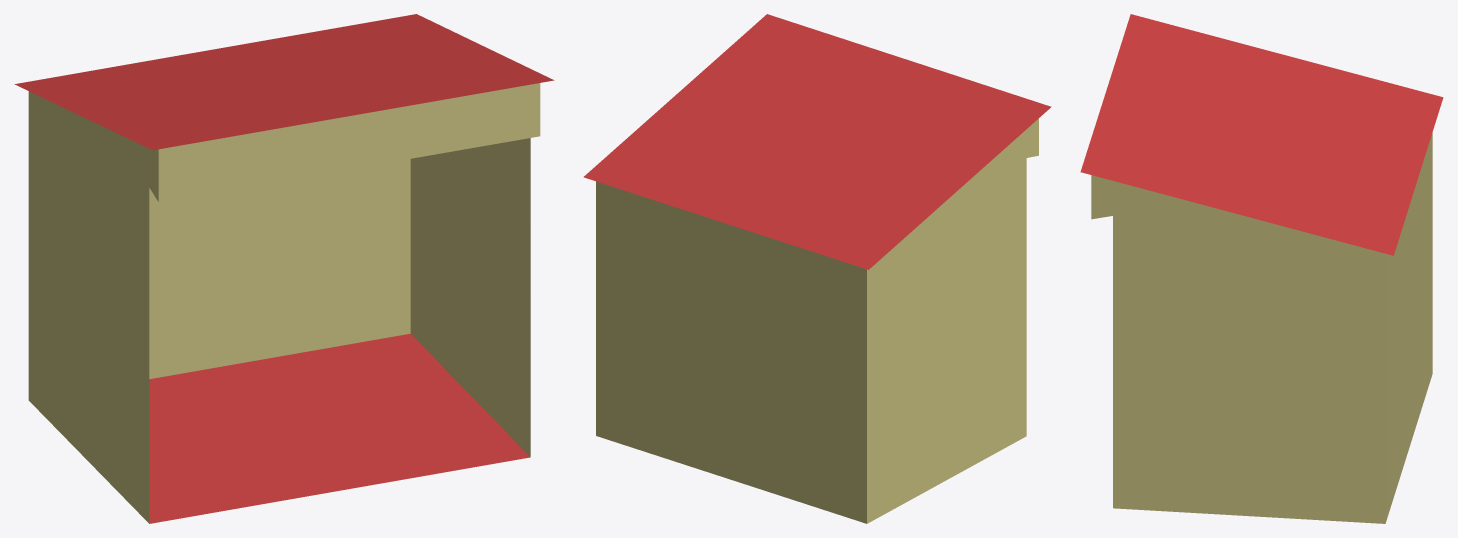
3 renders of one model, left to right at view 1: azimuth 30°, elevation 25°; view 2: azimuth 150°, elevation 25°; view 3: azimuth 270°, elevation 25°, orthographic. The views are drawn at different scales.
Bounding box in the file's own units: 10.89 × 9.49 × 9.76.
